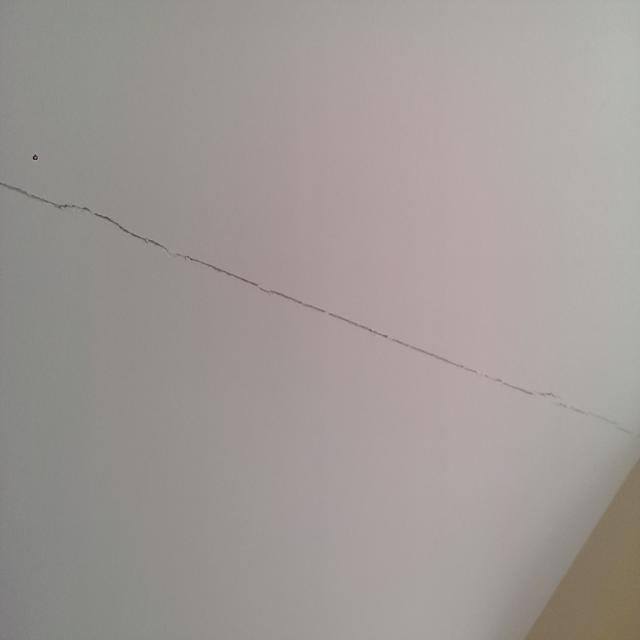Crack: (384, 334, 640, 442), (96, 203, 170, 252), (2, 173, 92, 211), (178, 246, 256, 284), (263, 283, 326, 311), (326, 308, 384, 337)
